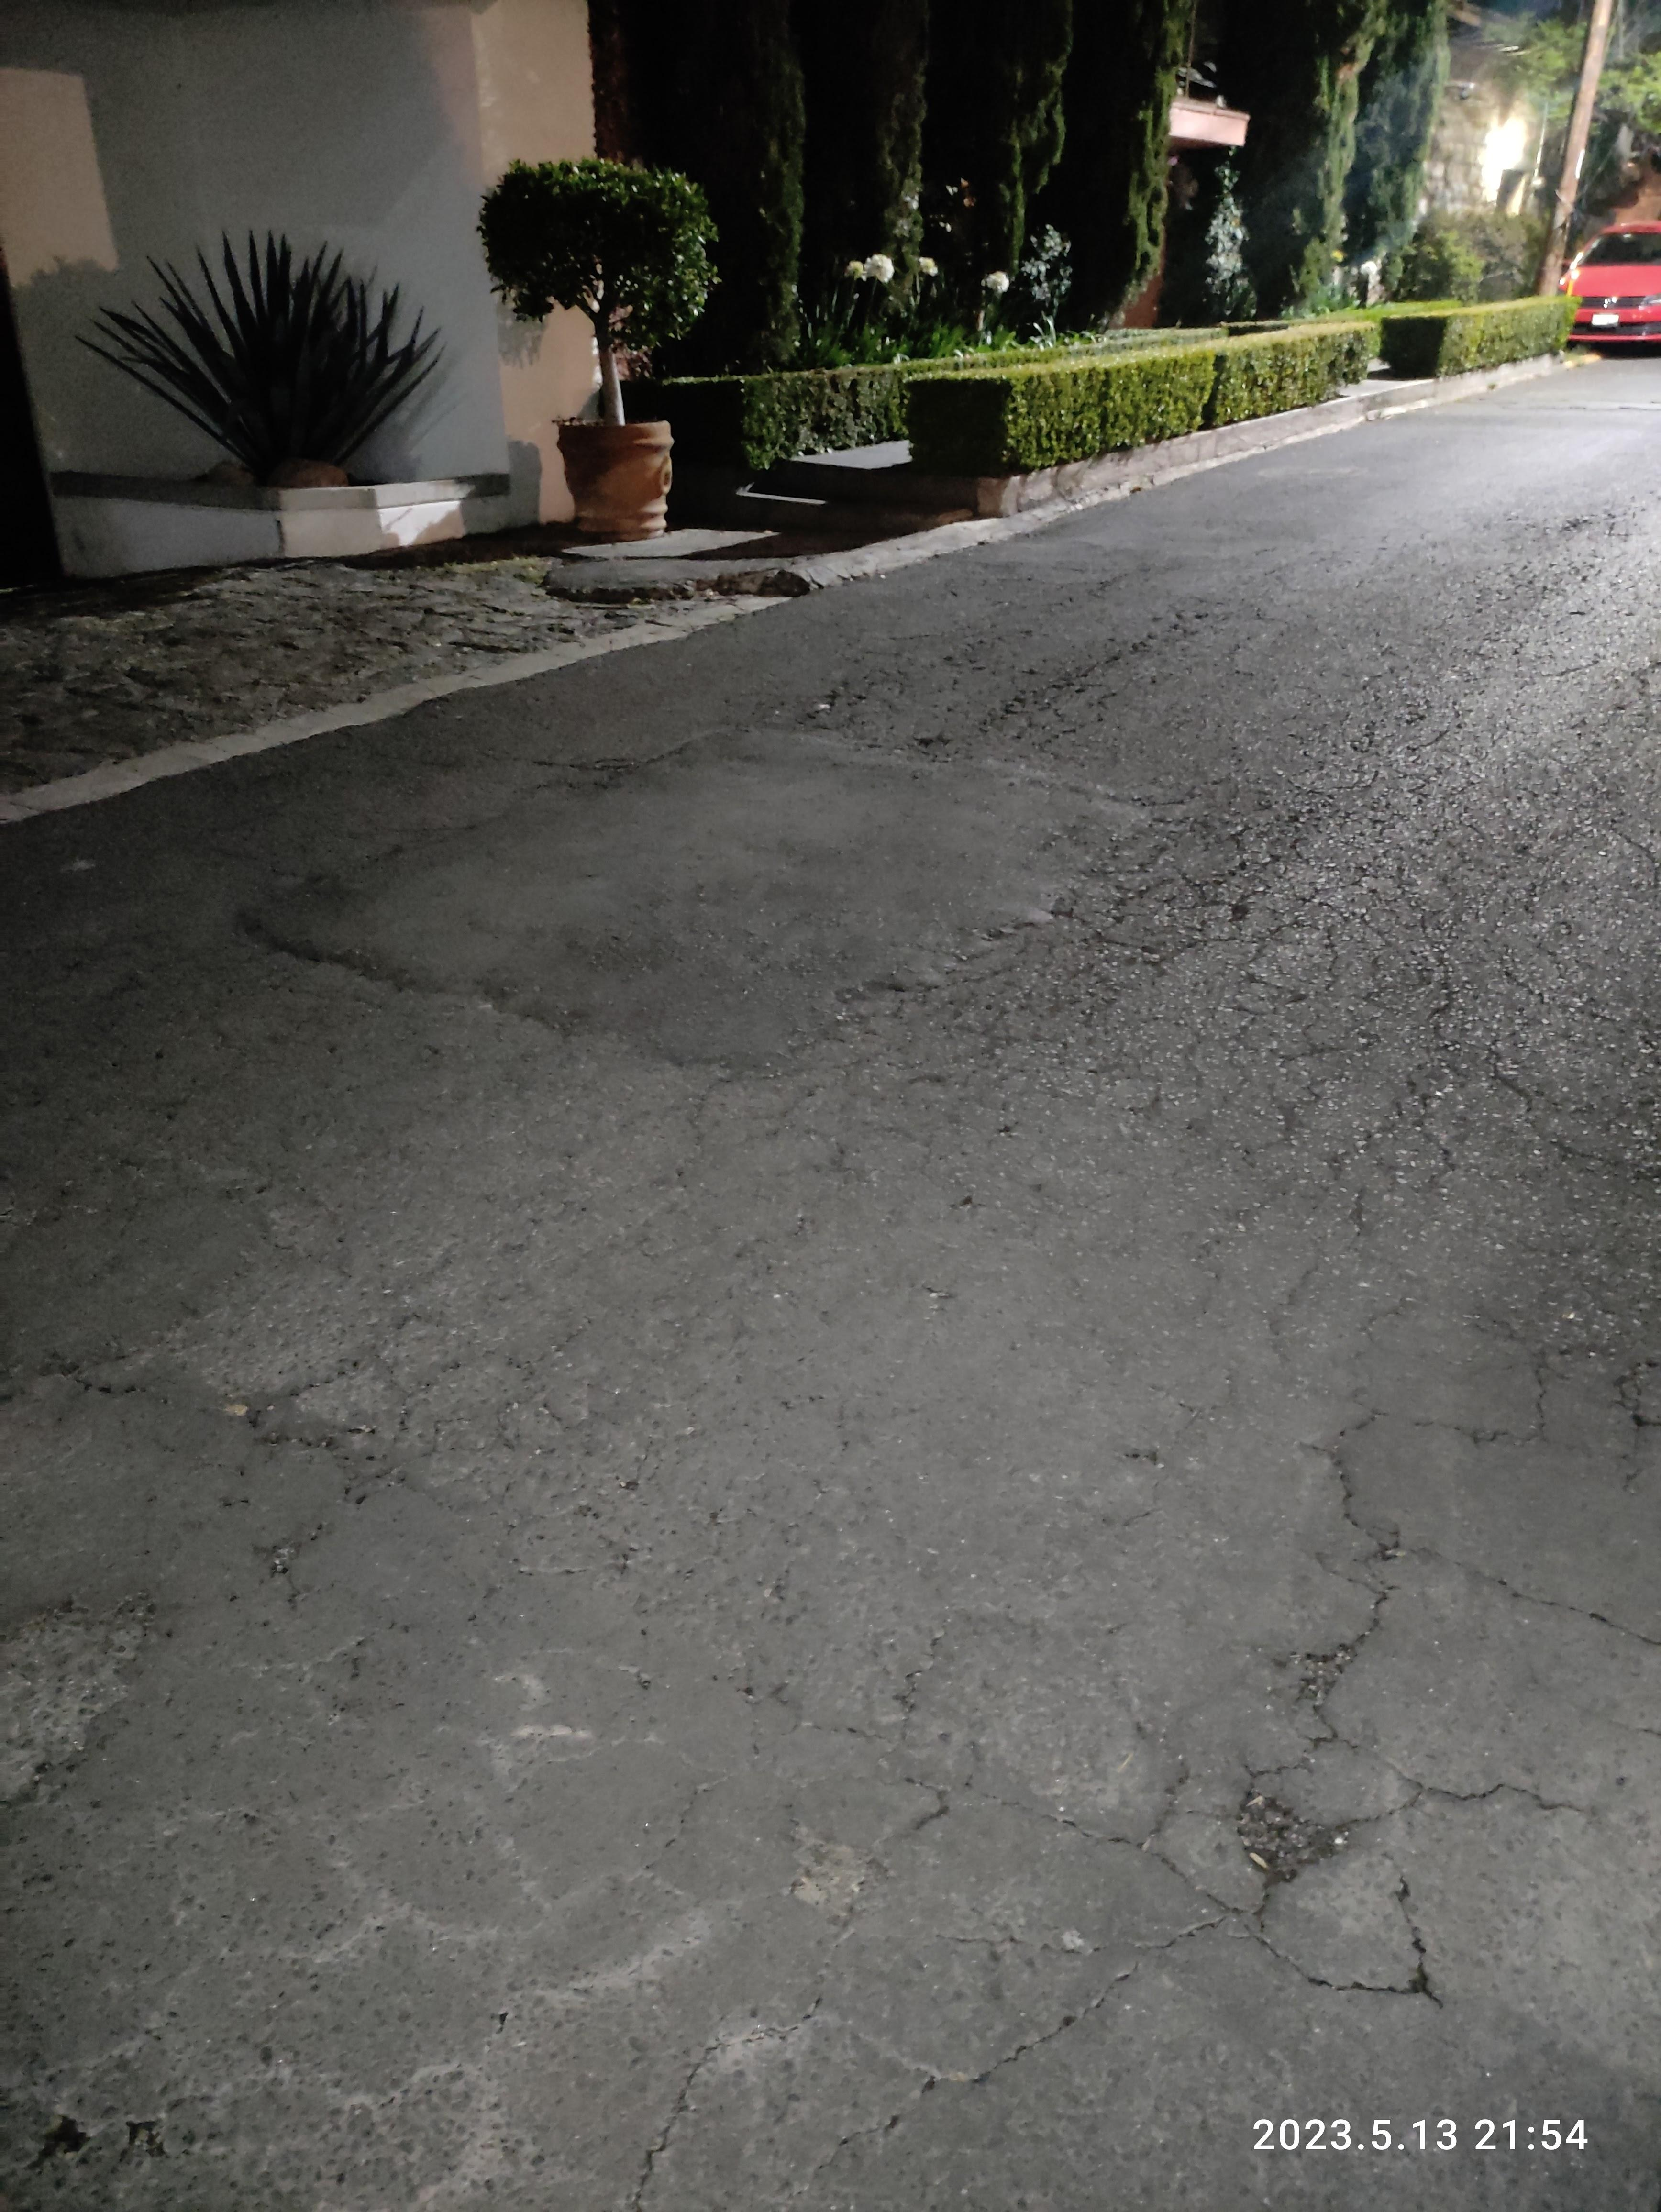alligator-crack: (612, 1296, 1661, 2212), (57, 1629, 909, 2212), (832, 673, 1653, 1222)
